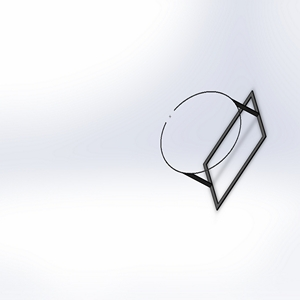circle: (157, 85, 267, 212)
